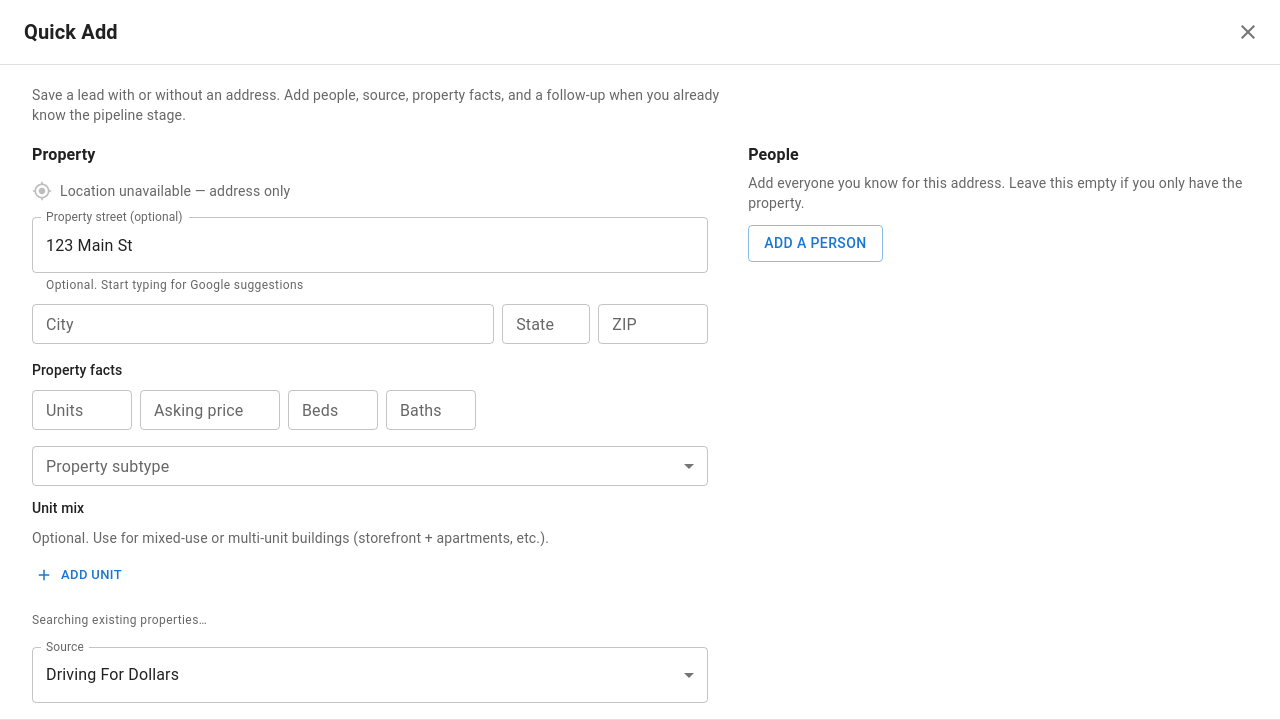
Scenario: QuickAddPage deprioritized matches › keeps the property when a person cannot be saved
Click the button with test id "quick-add-add-person" at (815, 243), box top-left (748, 225), bottom-right (883, 262)
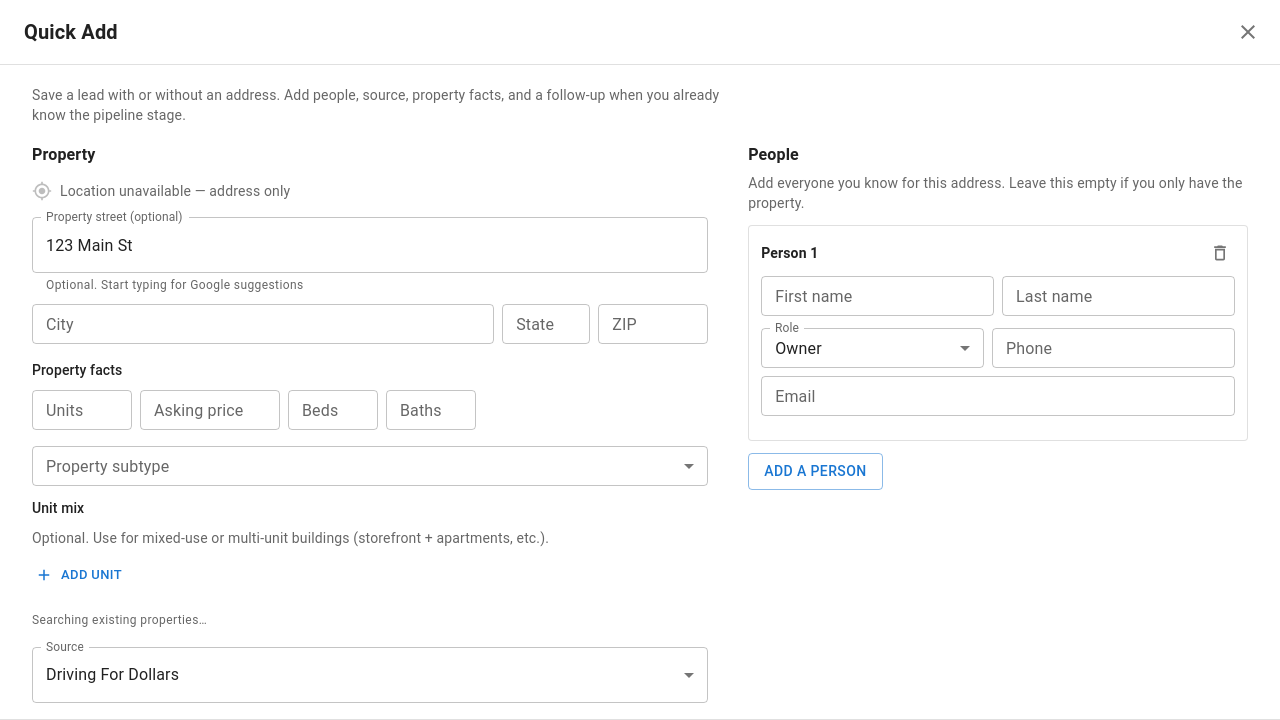
Type "Ada" into the field named "First name 1" at (878, 296), box top-left (761, 276), bottom-right (994, 316)
(page scrolled)
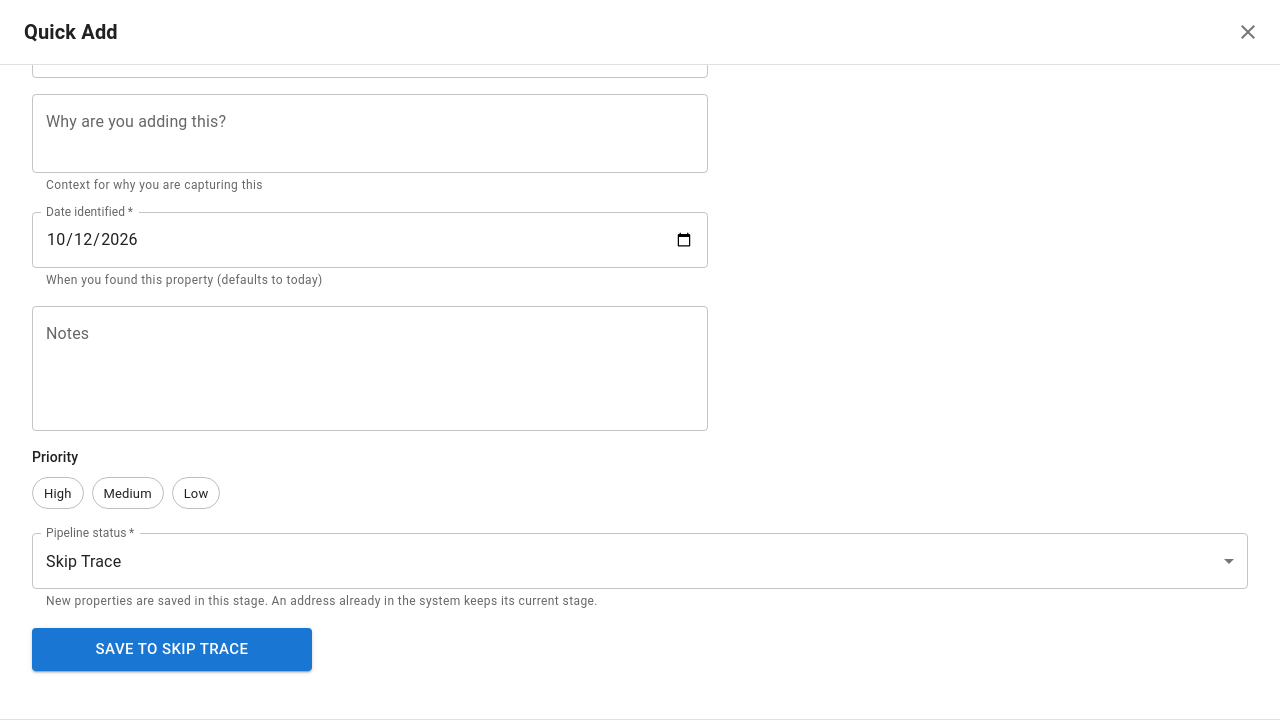
Click the button "Save to Skip Trace" at (172, 649), box top-left (32, 628), bottom-right (312, 671)
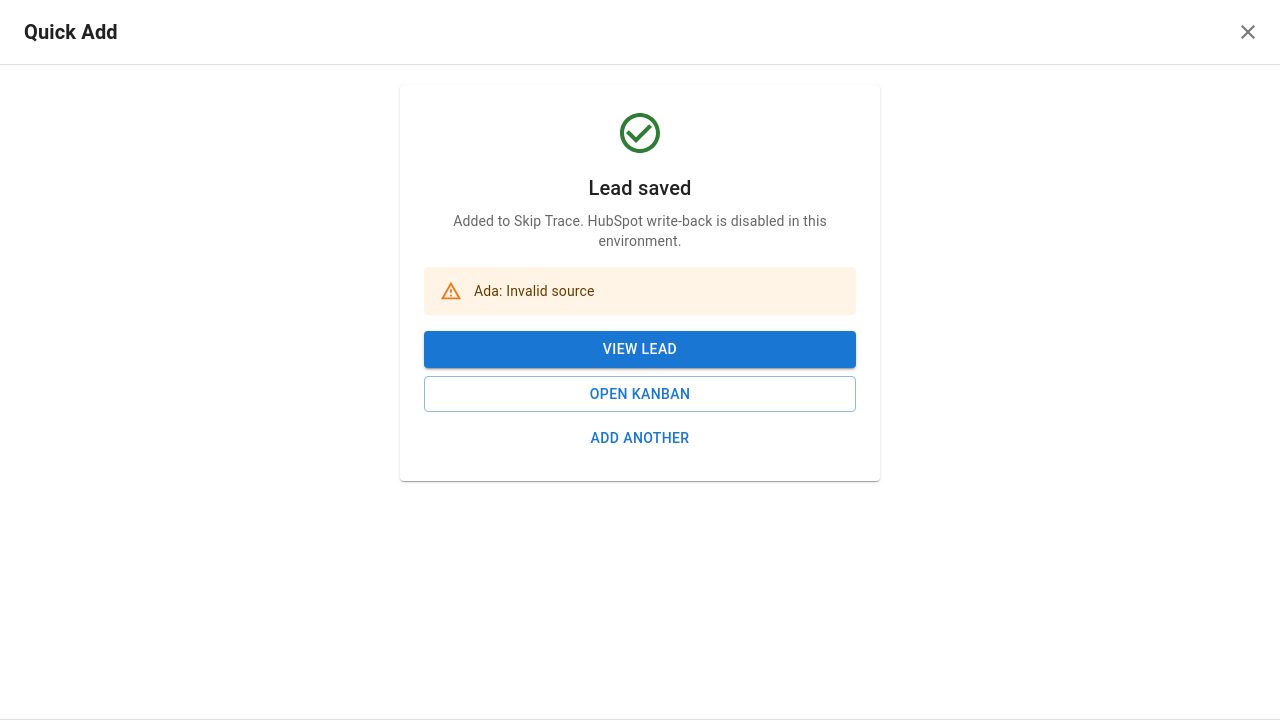
Expected: the text "Ada: Invalid source" is shown, top-left (474, 283), bottom-right (595, 299)
Expected: the text "Added to Skip Trace" is shown, top-left (453, 213), bottom-right (584, 229)
